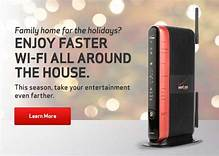Verizon Router: (141, 5, 211, 152)
